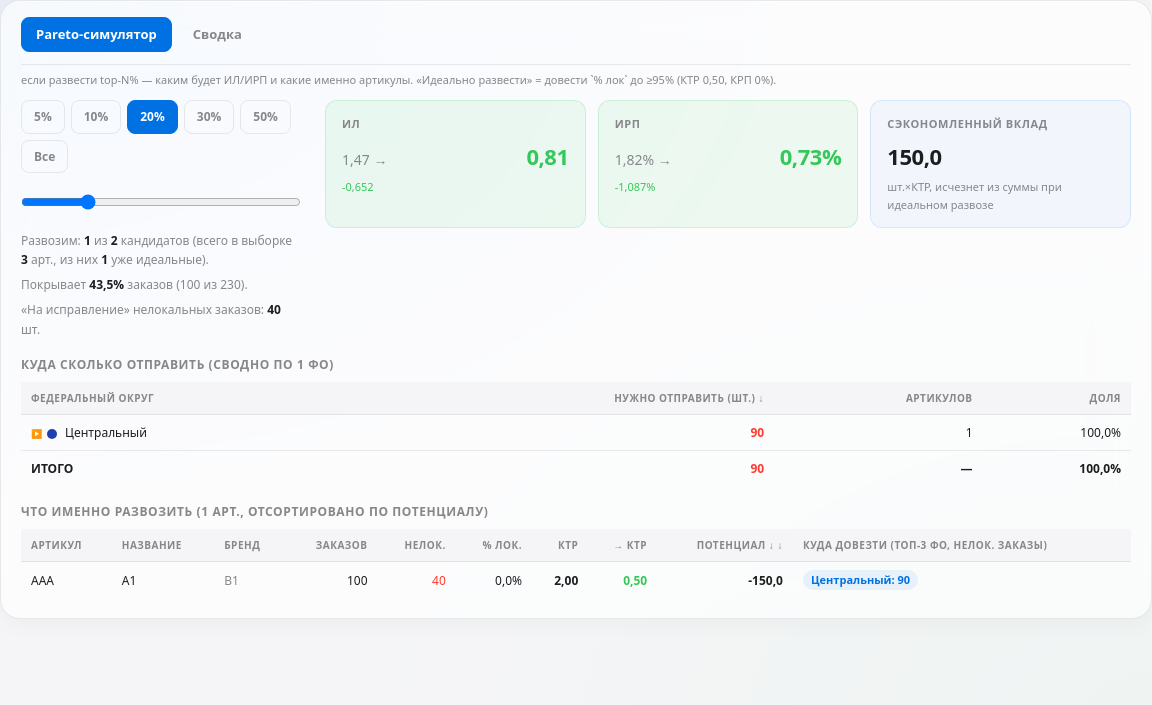
it: <LocalizationInsights /> › раскрытие одного ФО закрывает другой (single-open)
The width and height of the screenshot is (1152, 705).
Click the button "Все": (45, 156) [21,140,68,173]
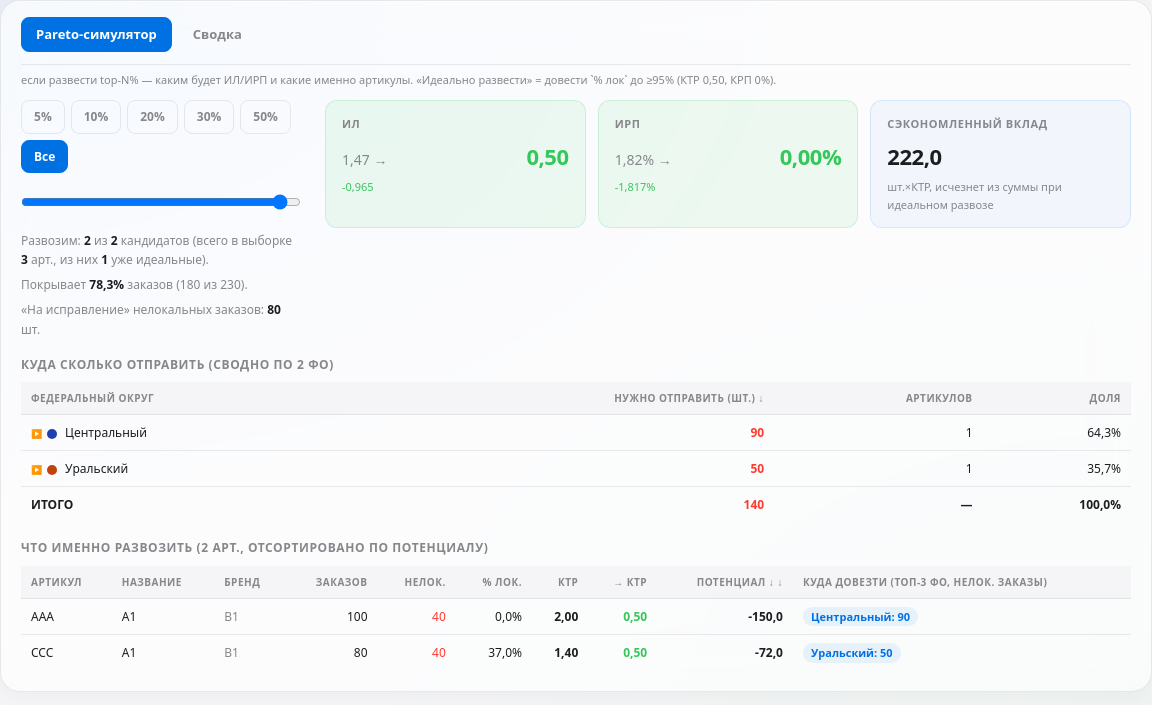
Click the row with test id "region-row-central": (576, 433) [21,415,1131,451]
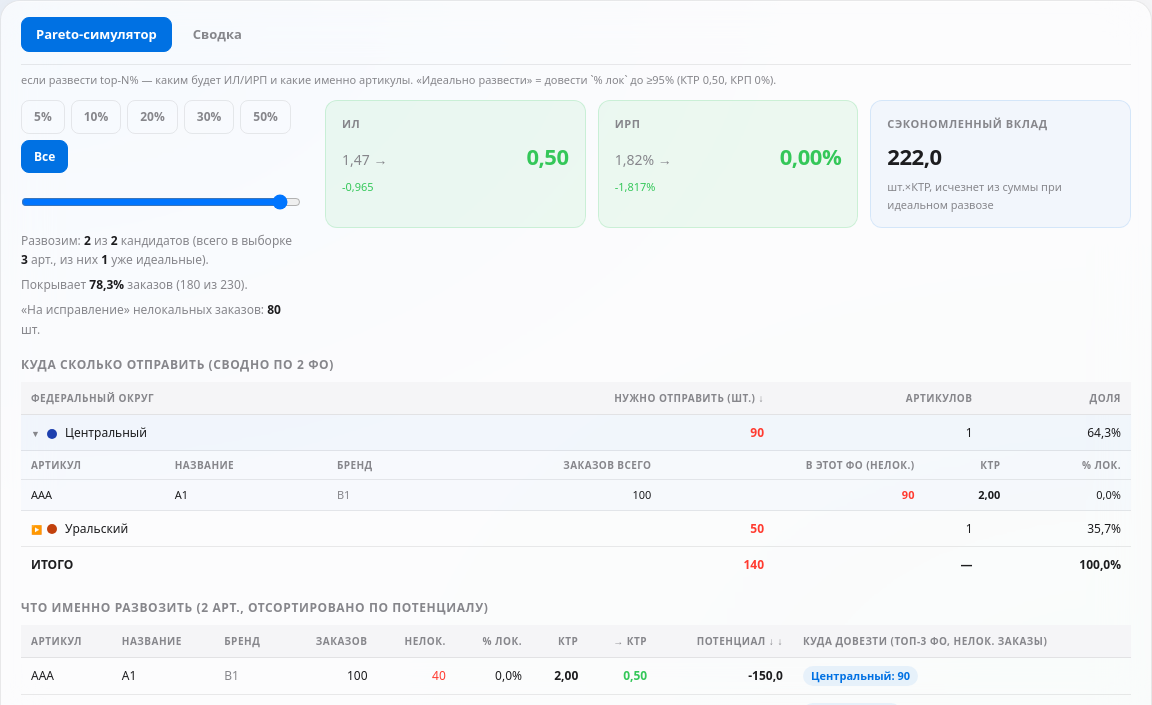
Expected: the row with test id "region-detail-central" is shown, [21,451,1131,511]
Click the row with test id "region-row-ural": (576, 529) [21,511,1131,547]
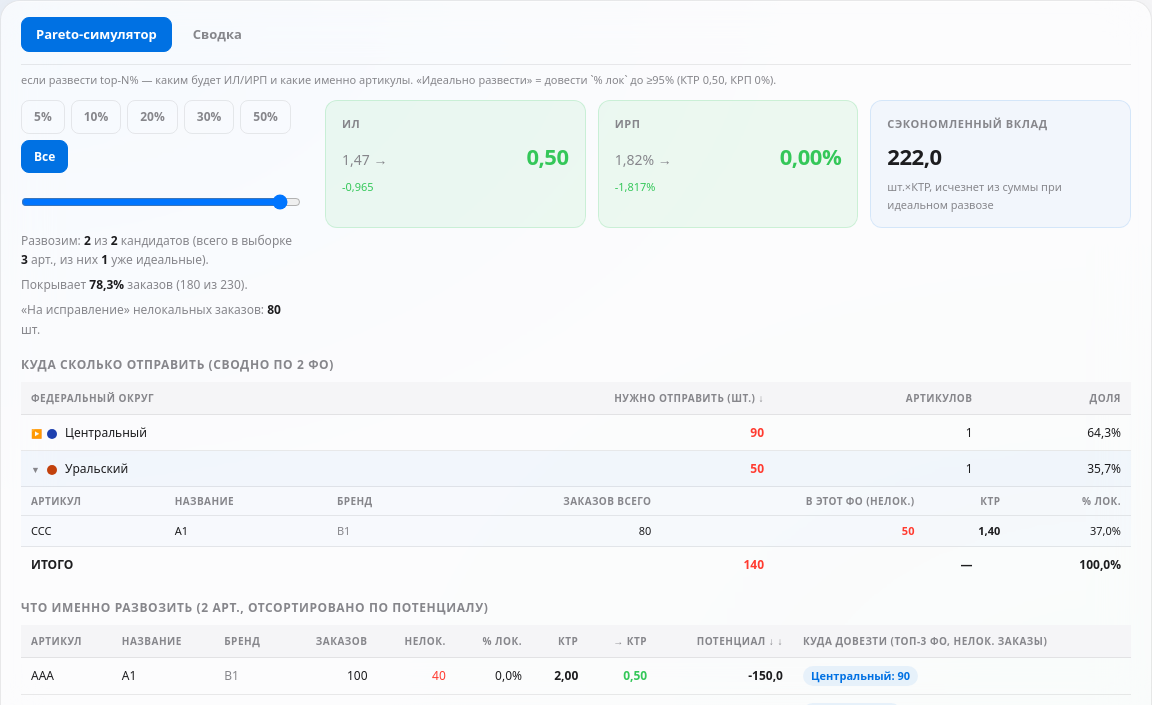
Expected: the row with test id "region-detail-central" is gone
Expected: the row with test id "region-detail-ural" is shown, [21,487,1131,547]
